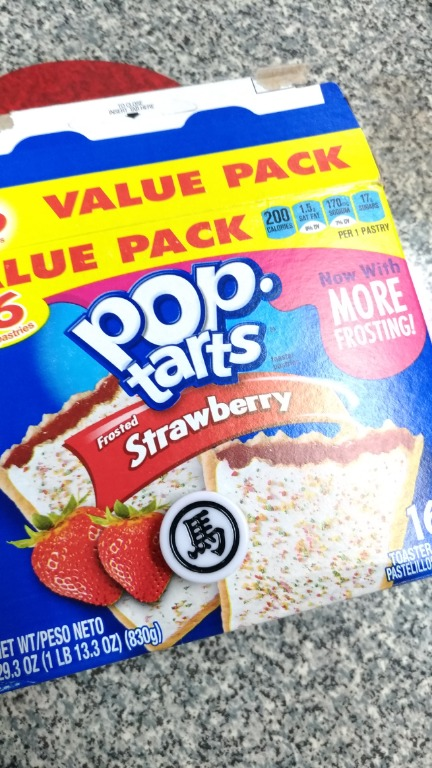b-knight: (149, 483, 266, 593)
